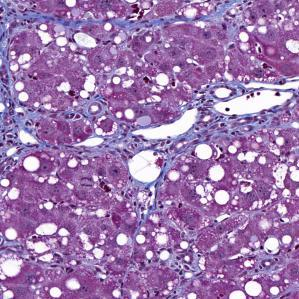fibrosis: (91, 112, 176, 154), (0, 0, 80, 39), (0, 107, 60, 156), (217, 109, 295, 136)
